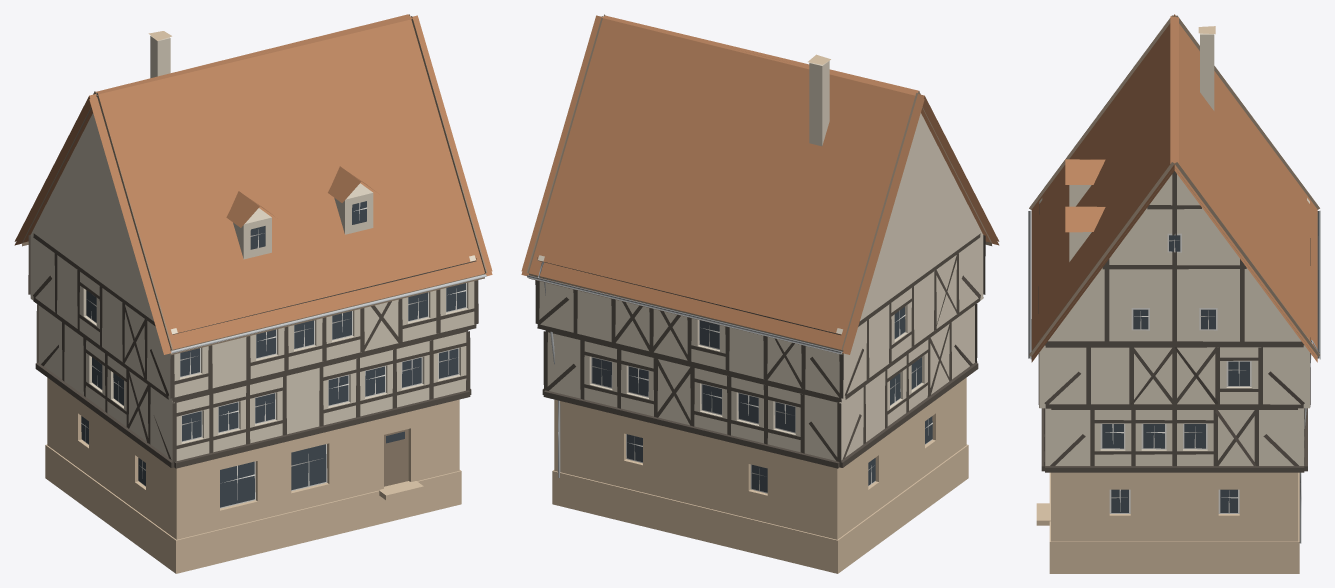
The model's file is oldtown-eave-3-lod1.glb.
3 renders of one model, left to right at view 1: azimuth 30°, elevation 25°; view 2: azimuth 150°, elevation 25°; view 3: azimuth 270°, elevation 25°, orthographic. The views are drawn at different scales.
Parts seen in each view (by area): view 1: oldtown-eave-3-plaster.001; view 2: oldtown-eave-3-plaster.001; view 3: oldtown-eave-3-plaster.001.
Part boxes in pixels (x1=…): oldtown-eave-3-plaster.001: x1=14, y1=14, x2=492, y2=573; oldtown-eave-3-plaster.001: x1=521, y1=14, x2=999, y2=573; oldtown-eave-3-plaster.001: x1=1028, y1=14, x2=1320, y2=573.
Size of the model in its own units: 13.92 by 18.72 by 11.23.
